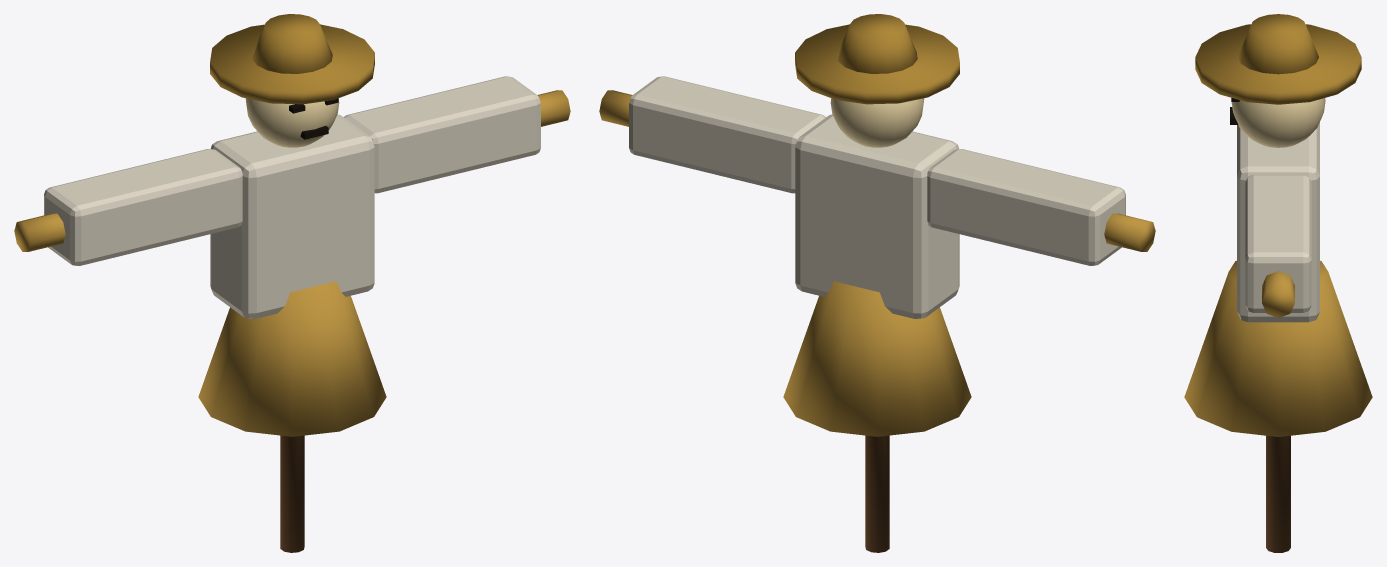
File: scarecrow.glb
The picture shows the model from 3 angles, left to right: view 1: azimuth 30°, elevation 25°; view 2: azimuth 150°, elevation 25°; view 3: azimuth 270°, elevation 25°; orthographic projection.
Parts seen in each view (by area): view 1: Cube, Cone.004, Cube.001, Cube.002, Cone.005, Cone.006, Sphere, Cone, Cone.002, Cone.003; view 2: Cube, Cone.004, Cube.001, Cube.002, Cone.005, Cone.006, Sphere, Cone, Cone.002, Cone.003; view 3: Cone.004, Cube.002, Cone.005, Cube, Cone.006, Sphere, Cone, Cone.003.
Part boxes in pixels (x1=…): Cube: x1=210, y1=114, x2=374, y2=318; Cone.004: x1=198, y1=281, x2=386, y2=436; Cube.001: x1=44, y1=149, x2=242, y2=265; Cube.002: x1=343, y1=76, x2=540, y2=193; Cone.005: x1=210, y1=24, x2=374, y2=104; Cone.006: x1=252, y1=14, x2=332, y2=73; Sphere: x1=245, y1=98, x2=339, y2=147; Cone: x1=280, y1=435, x2=304, y2=552; Cone.002: x1=14, y1=213, x2=65, y2=251; Cone.003: x1=537, y1=90, x2=570, y2=126; Cube: x1=795, y1=114, x2=959, y2=318; Cone.004: x1=783, y1=281, x2=971, y2=436; Cube.001: x1=927, y1=149, x2=1125, y2=265; Cube.002: x1=629, y1=76, x2=826, y2=193; Cone.005: x1=795, y1=24, x2=959, y2=104; Cone.006: x1=837, y1=14, x2=917, y2=73; Sphere: x1=830, y1=98, x2=924, y2=147; Cone: x1=865, y1=435, x2=889, y2=552; Cone.002: x1=1104, y1=213, x2=1155, y2=251; Cone.003: x1=599, y1=90, x2=632, y2=126; Cone.004: x1=1184, y1=260, x2=1372, y2=436; Cube.002: x1=1245, y1=175, x2=1311, y2=312; Cone.005: x1=1195, y1=24, x2=1361, y2=104; Cube: x1=1237, y1=122, x2=1319, y2=322; Cone.006: x1=1238, y1=14, x2=1318, y2=74; Sphere: x1=1231, y1=98, x2=1325, y2=147; Cone: x1=1266, y1=435, x2=1290, y2=552; Cone.003: x1=1262, y1=271, x2=1294, y2=317.
Size of the model in its own units: 2.25 by 2.08 by 0.68.
